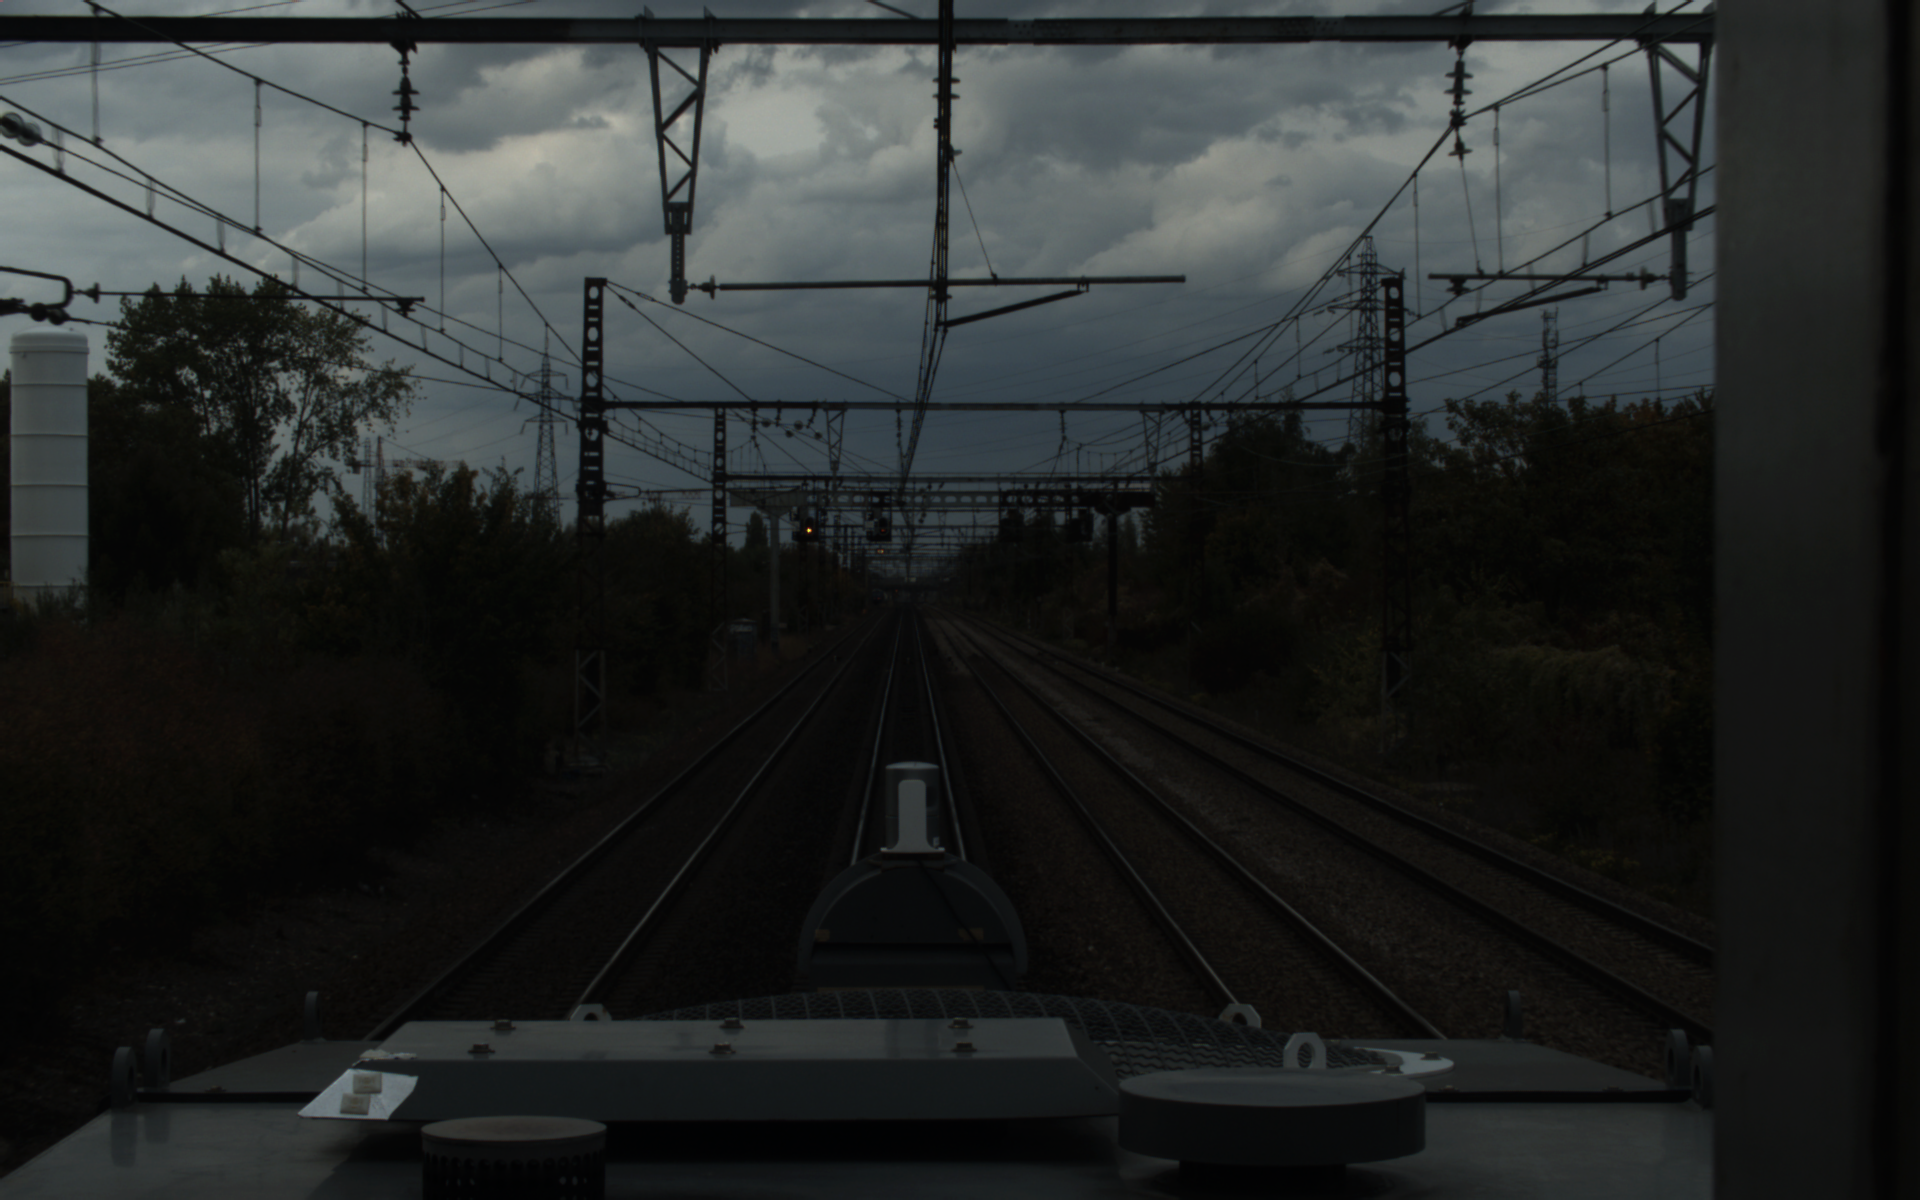Blinking: (875, 516, 892, 536), (800, 514, 816, 536)
